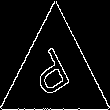P_SE: (30, 42, 80, 105)
